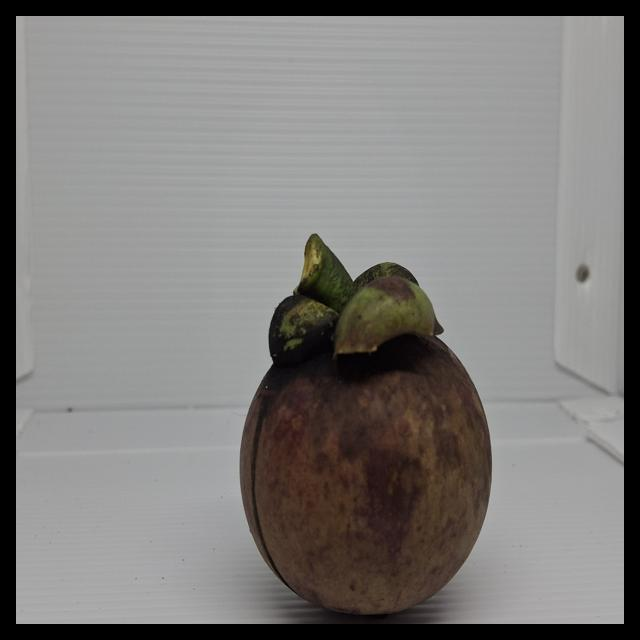mangosteen: (219, 235, 522, 610)
